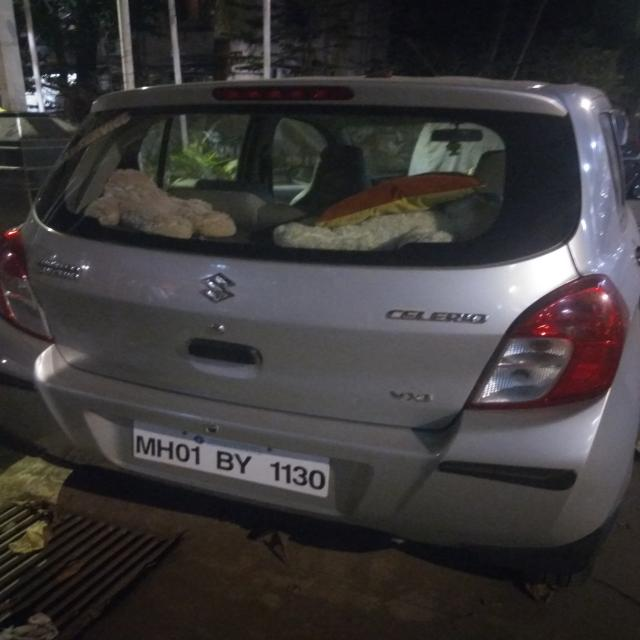Number-Plate: (132, 427, 336, 496)
